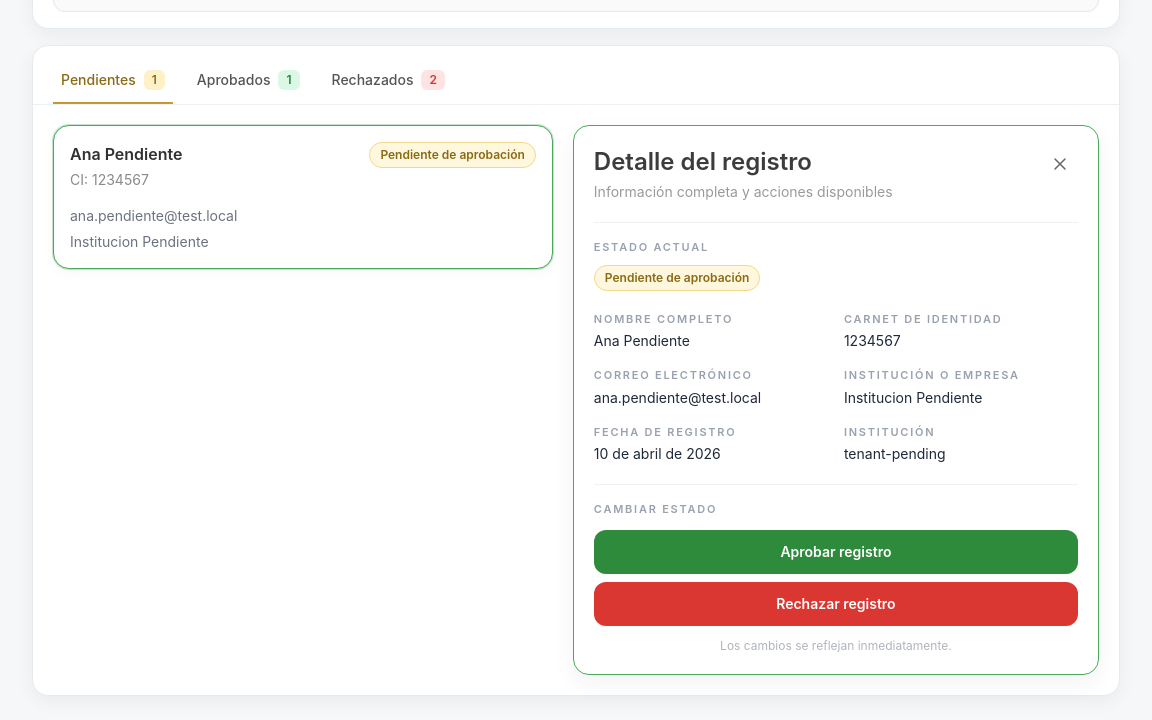
Scenario: MX-02 | Gestión de instituciones, administradores y wallets | Frontend Admin | Aprobaciones › [MX-02][D-NEW-006][INTEGRACION] aprueba una solicitud de institución nueva verificada con el identificador público
(page scrolled)
Expected: the button "Ana Pendiente" is shown, 53,125 -> 553,269
Click the button "Aprobar registro": [836, 552] box 594,530 -> 1078,574
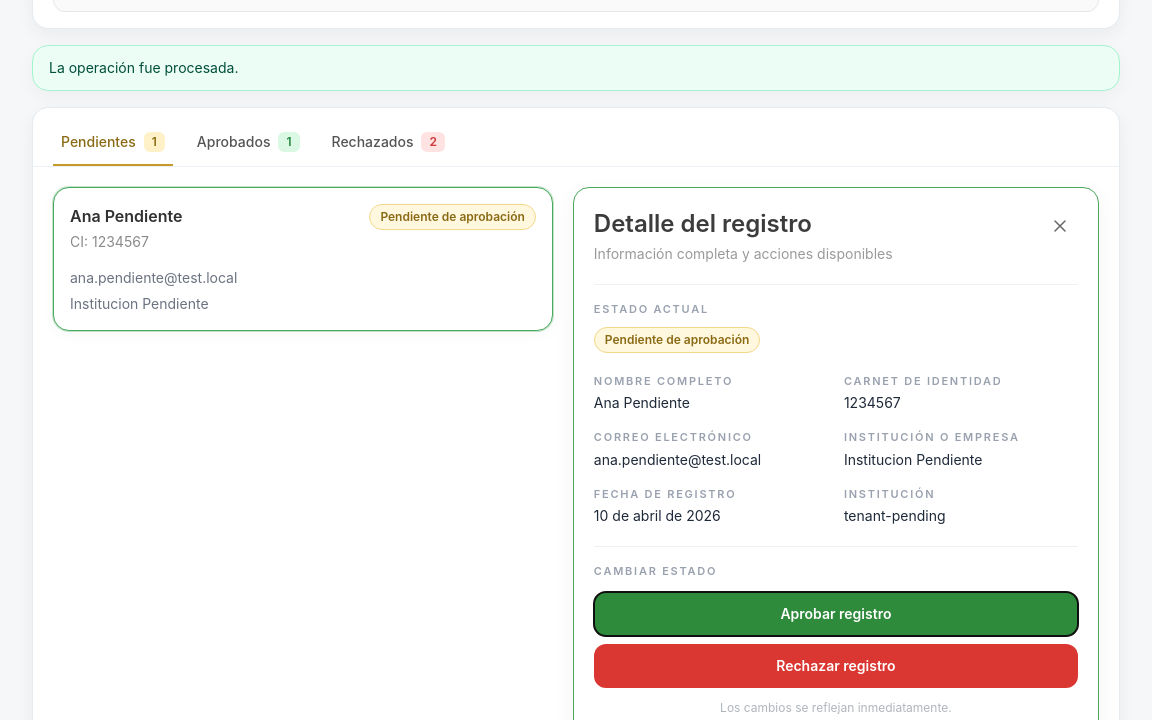
Expected: the text "La operación fue procesada." is shown, 32,45 -> 1120,91
